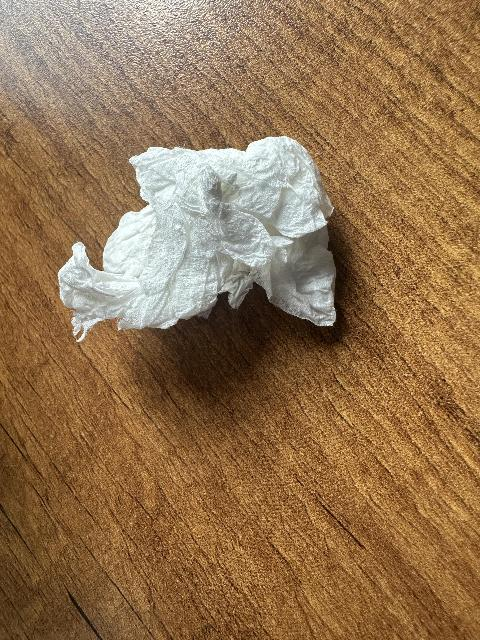Kagit: (43, 137, 354, 338)
